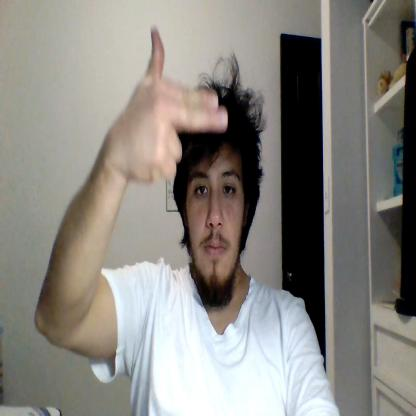H: (126, 26, 228, 184)
